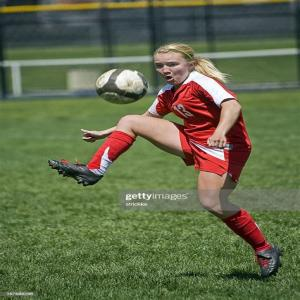Football: (95, 68, 148, 104)
